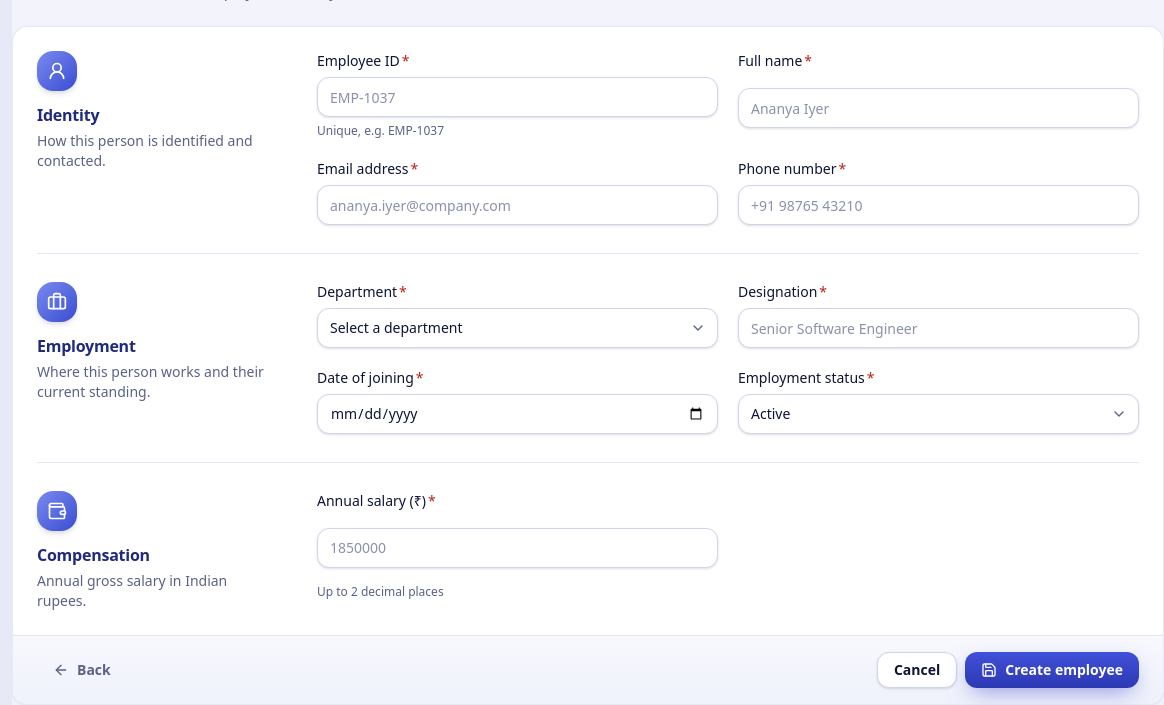
Test: <CreateEmployee> › shows a validation message next to every empty required field and does not submit
(page scrolled)
Check: the field labelled "Employee ID*" is shown, box [317, 77, 718, 117]
Click the button "Create employee".
click(1052, 670)  # box [965, 652, 1139, 688]
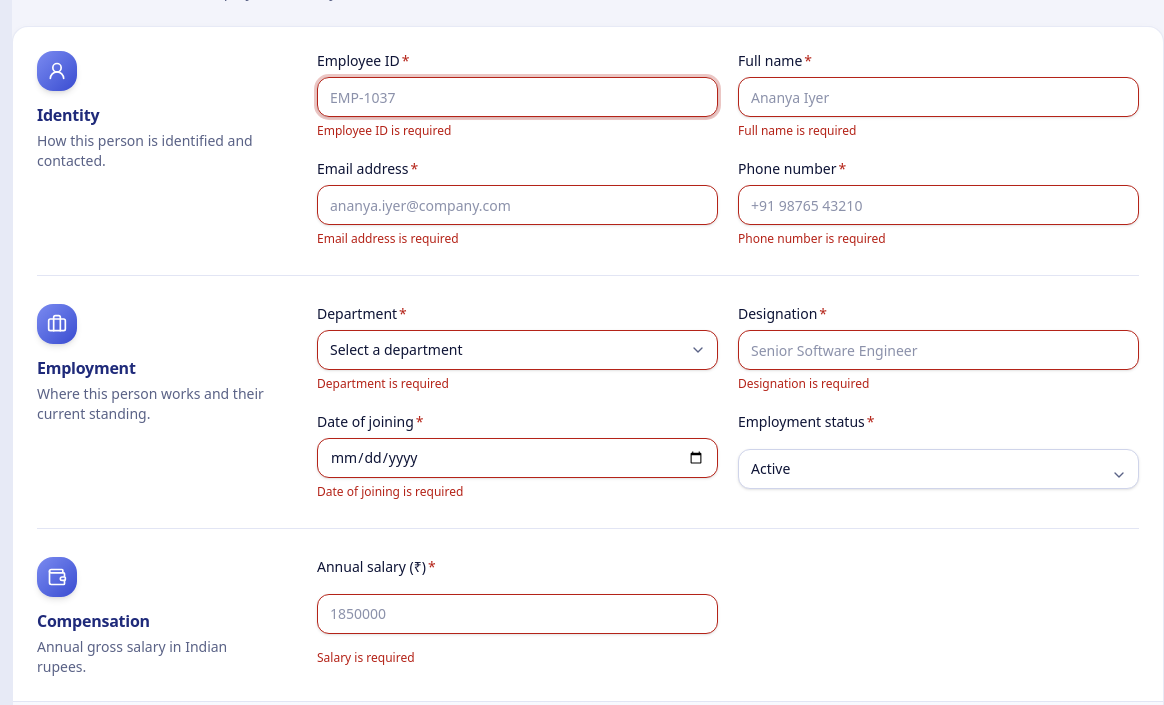
Check: the text "Employee ID is required" is shown, box [317, 122, 451, 139]
Check: the text "Full name is required" is shown, box [738, 122, 856, 139]
Check: the text "Email address is required" is shown, box [317, 230, 459, 247]
